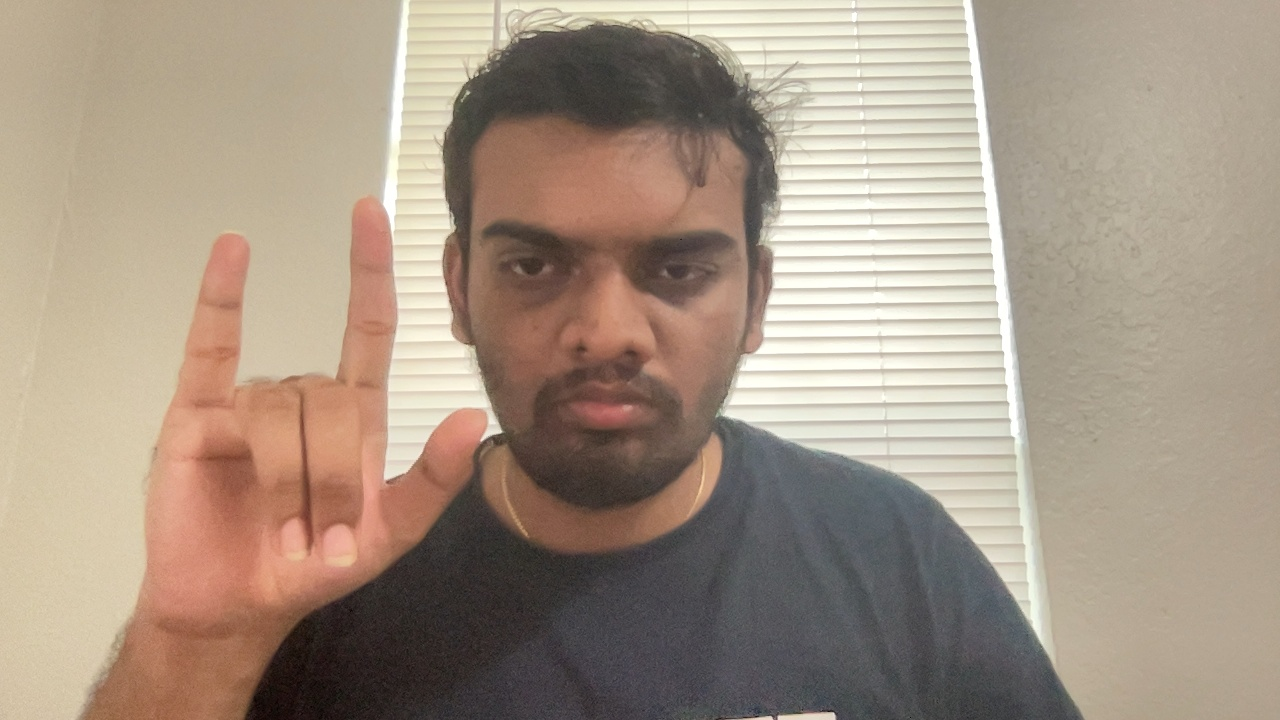i love you: (118, 193, 485, 643)
